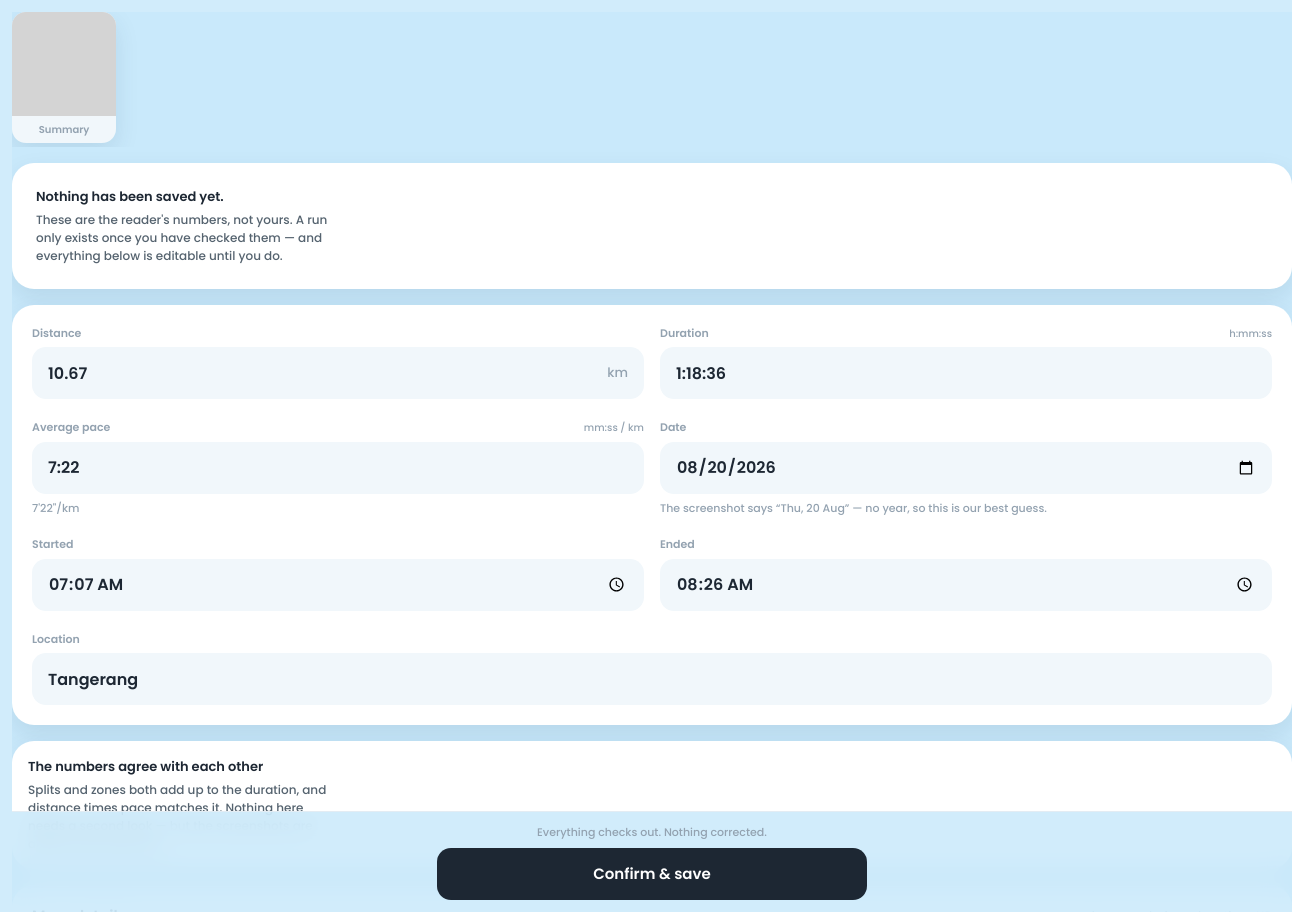
Test: ReviewScreen — a keystroke re-runs the checks › the edited chip goes only to fields the checks cannot implicate
Type "Bandung" into the field named "Where this run happened" at (652, 679), box [32,653,1272,705]
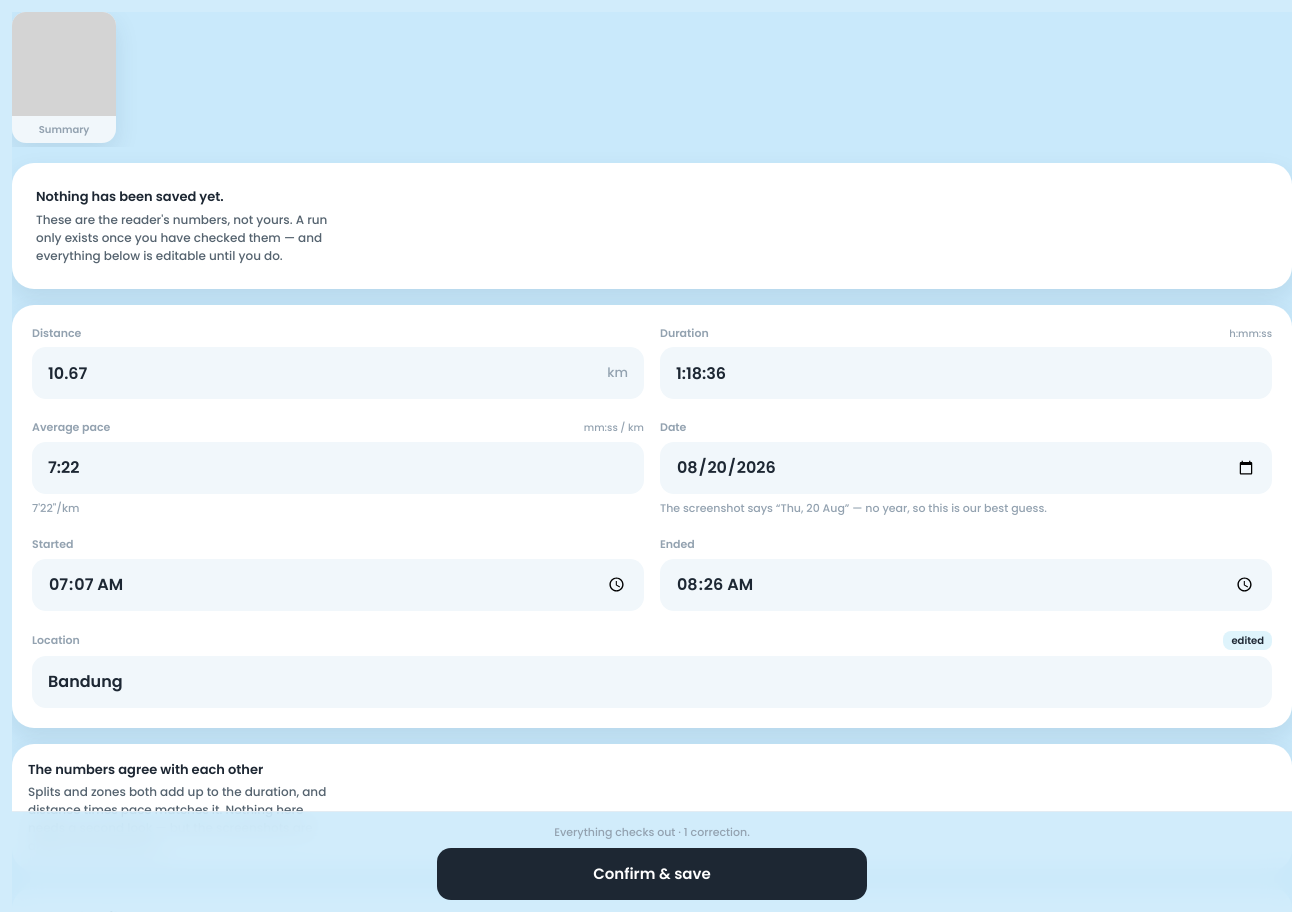
Expected: the text "edited" is shown once, [1223,630,1272,650]
Expected: the text "Everything checks out · 1 correction." is shown, [554,824,750,840]
